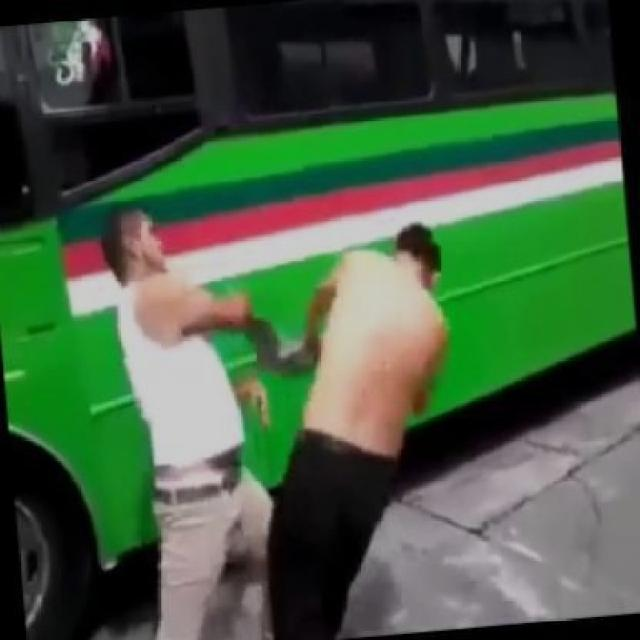fight: (92, 199, 463, 640)
